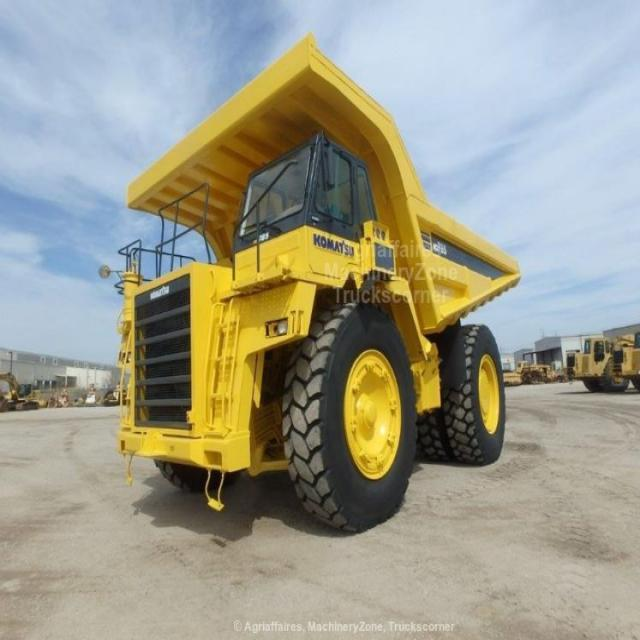dump_truck: (104, 35, 509, 529)
